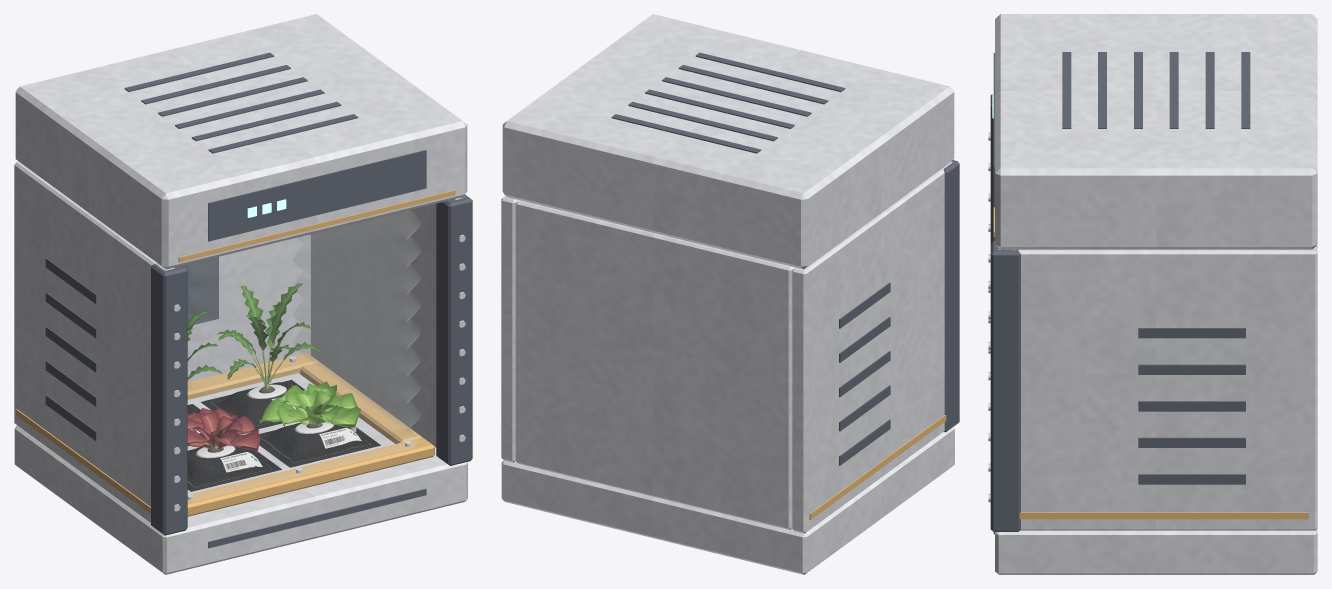
File: NASA_Veggie_Chamber_Growing.glb
The picture shows the model from 3 angles, left to right: view 1: azimuth 30°, elevation 25°; view 2: azimuth 150°, elevation 25°; view 3: azimuth 270°, elevation 25°; orthographic projection. The views are drawn at different scales.
Visible parts, largest first — view 1: Frame_White, Transparent_Bellows, Frame_Dark, Frame_Gold, Plants, Plant_Pillows, Pillow_Labels, White_Plastic_Parts, Metal_Silver; view 2: Frame_White, Frame_Dark, Frame_Gold; view 3: Frame_White, Frame_Dark, Frame_Gold.
Part boxes in pixels (x1=…): Frame_White: x1=14, y1=14, x2=467, y2=574; Transparent_Bellows: x1=184, y1=210, x2=421, y2=501; Frame_Dark: x1=45, y1=52, x2=472, y2=548; Frame_Gold: x1=16, y1=190, x2=455, y2=516; Plants: x1=187, y1=283, x2=360, y2=452; Plant_Pillows: x1=187, y1=379, x2=380, y2=491; Pillow_Labels: x1=189, y1=398, x2=361, y2=472; White_Plastic_Parts: x1=187, y1=384, x2=356, y2=458; Metal_Silver: x1=173, y1=235, x2=465, y2=511; Frame_White: x1=501, y1=14, x2=954, y2=574; Frame_Dark: x1=611, y1=52, x2=959, y2=465; Frame_Gold: x1=809, y1=415, x2=946, y2=519; Frame_White: x1=995, y1=14, x2=1317, y2=574; Frame_Dark: x1=990, y1=52, x2=1250, y2=534; Frame_Gold: x1=993, y1=207, x2=1308, y2=519.
Bounding box in the file's own units: 0.426 × 0.5015 × 0.3675.
12 materials, 5 textured.
